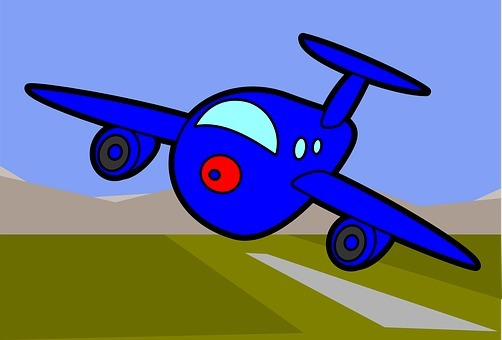aeroplane: (9, 9, 483, 299)
